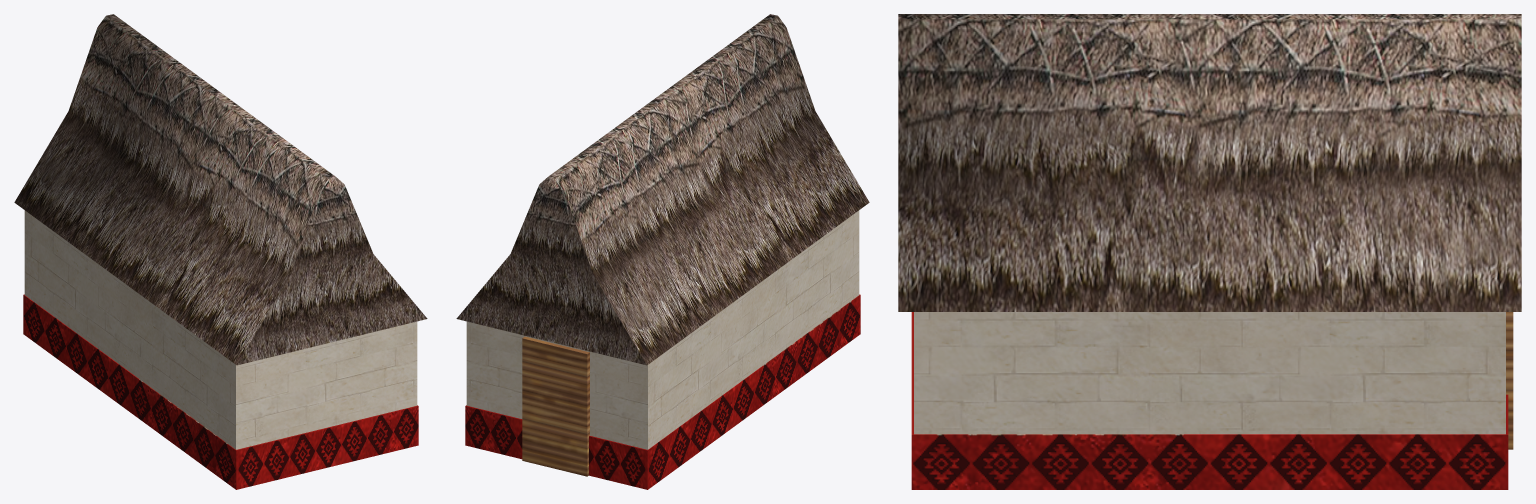
The model's file is house_2.dae.
The picture shows the model from 3 angles, left to right: view 1: azimuth 30°, elevation 25°; view 2: azimuth 150°, elevation 25°; view 3: azimuth 270°, elevation 25°; orthographic projection. The views are drawn at different scales.
Visible parts, largest first — view 1: house__2; view 2: house__2; view 3: house__2.
Part boxes in pixels (x1,y1,x2,y2): house__2: (14, 14, 427, 489); house__2: (456, 14, 869, 489); house__2: (898, 14, 1521, 489).
Size of the model in its own units: 6.61 by 13.37 by 9.72.
